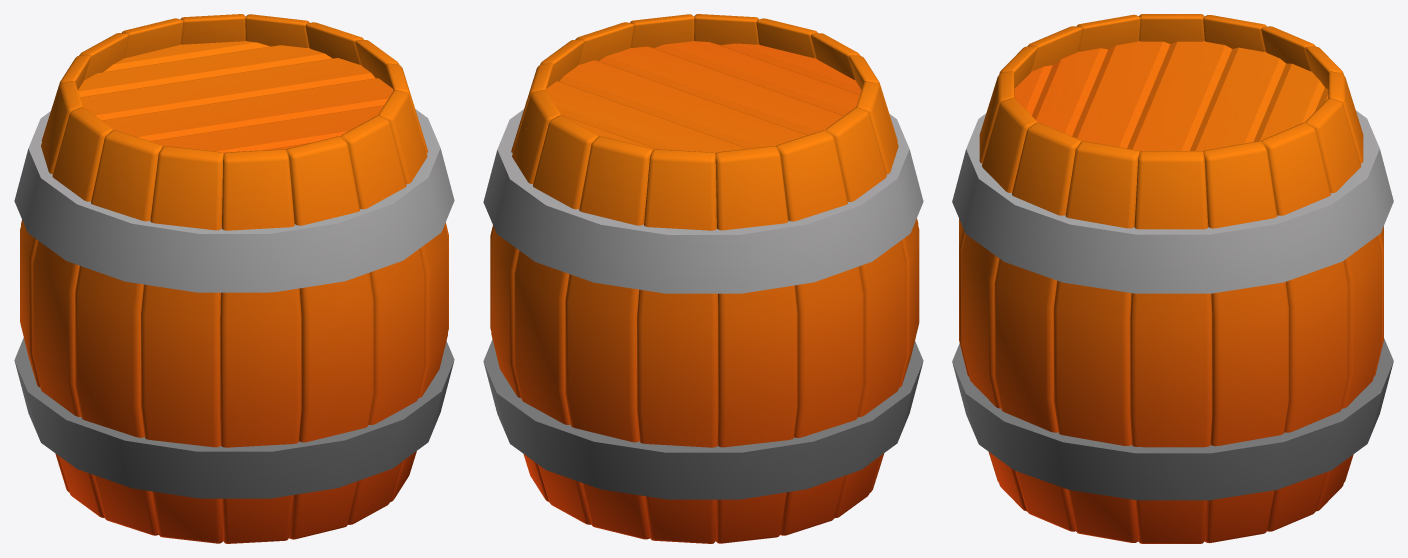
Rendered from varil.fbx.
The picture shows the model from 3 angles, left to right: view 1: azimuth 30°, elevation 25°; view 2: azimuth 150°, elevation 25°; view 3: azimuth 270°, elevation 25°; orthographic projection.
Visible parts, largest first — view 1: ChamferBox014; view 2: ChamferBox014; view 3: ChamferBox014.
Boxes of the visible parts, x1=… form: ChamferBox014: x1=14, y1=14, x2=454, y2=543; ChamferBox014: x1=483, y1=14, x2=923, y2=543; ChamferBox014: x1=952, y1=14, x2=1393, y2=543.
Size of the model in its own units: 33.89 by 33.5 by 34.39.
1 material, 1 textured.
